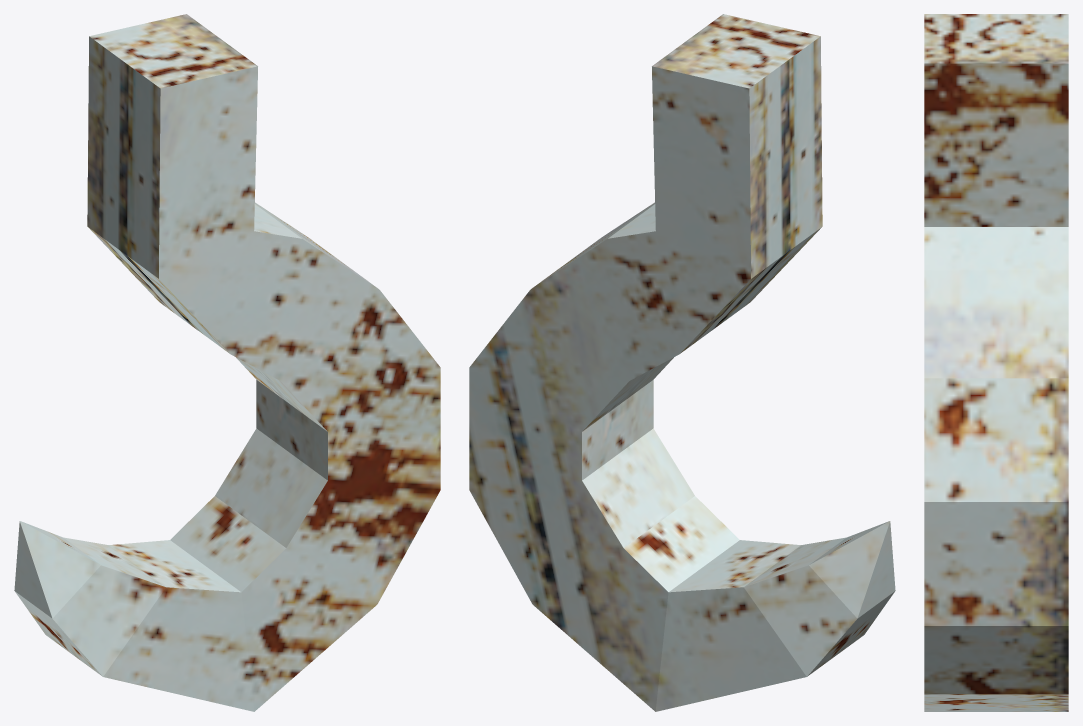
Rendered from gouzi.FBX.
3 renders of one model, left to right at view 1: azimuth 30°, elevation 25°; view 2: azimuth 150°, elevation 25°; view 3: azimuth 270°, elevation 25°, orthographic.
Visible parts, largest first — view 1: Box001; view 2: Box001; view 3: Box001.
Boxes of the visible parts, x1=… form: Box001: x1=14, y1=14, x2=440, y2=711; Box001: x1=469, y1=14, x2=895, y2=711; Box001: x1=924, y1=14, x2=1068, y2=711.
Bounding box in the file's own units: 32.51 × 52.13 × 10.45.
